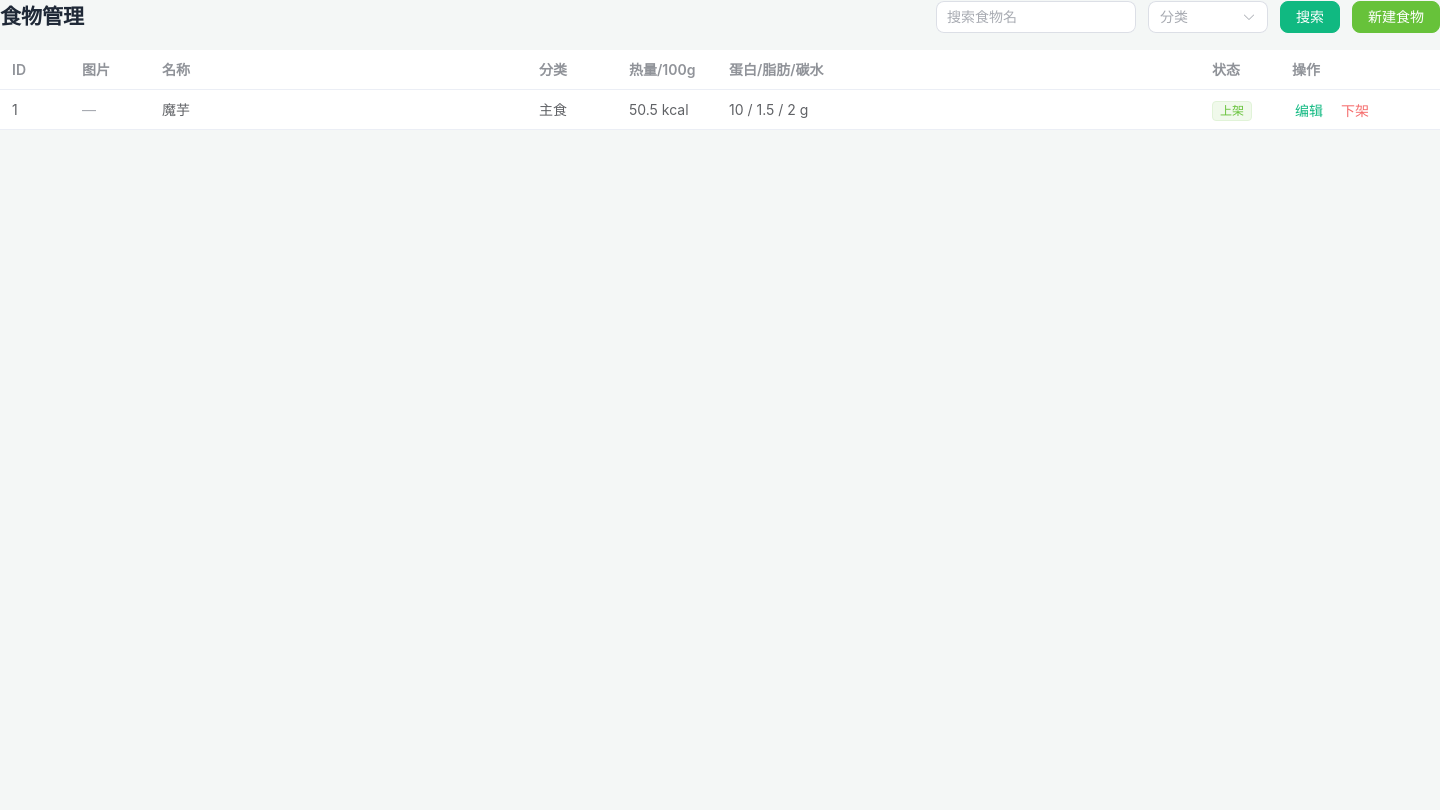
Test: AdminFoodsView › opens create dialog when clicking 新建食物
Click the button "新建食物".
click(1396, 17)  # box [1352,1,1439,33]
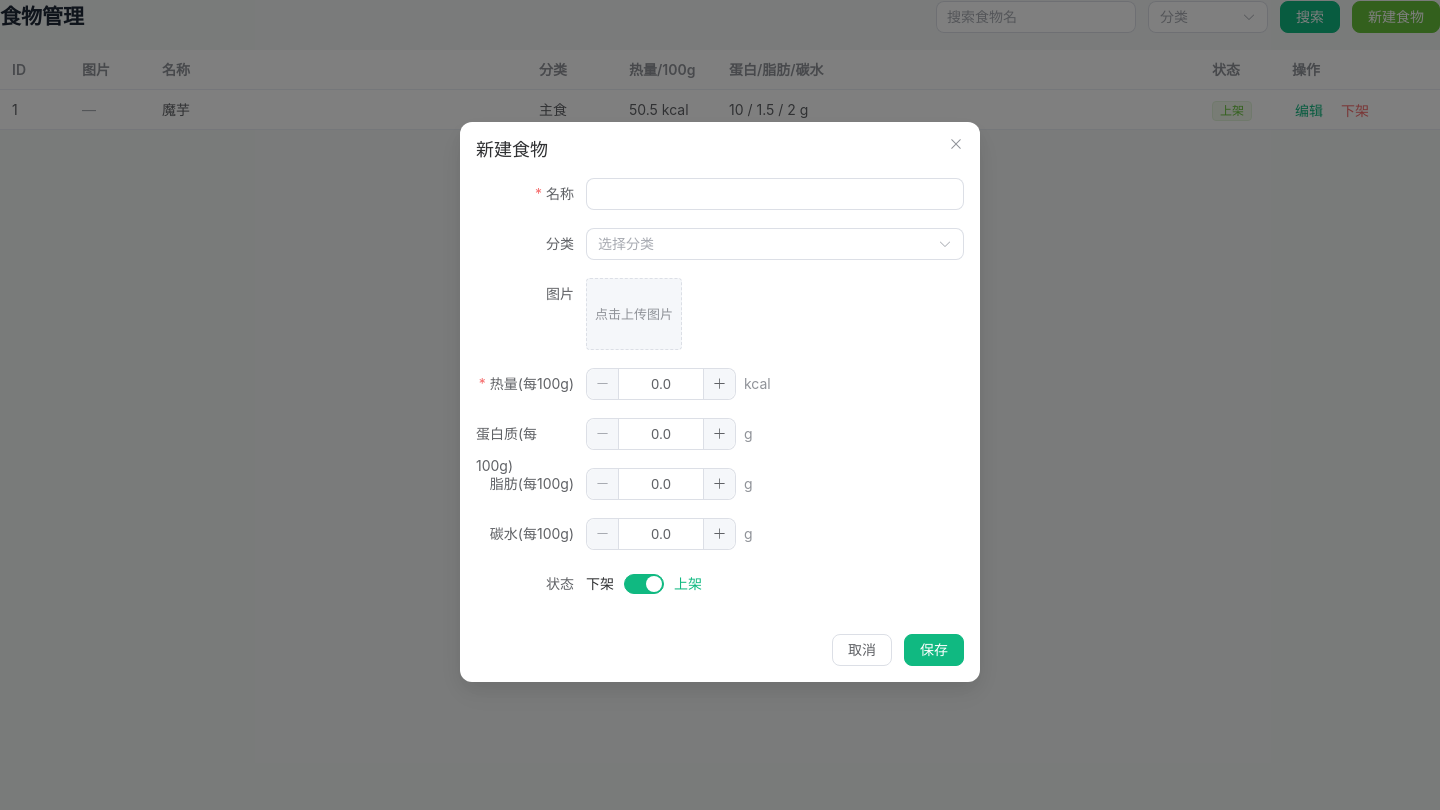
Now the text "热量(每100g)" is shown, box [476,368,586,400]
Now the text "保存" is shown, box [920,643,948,657]
